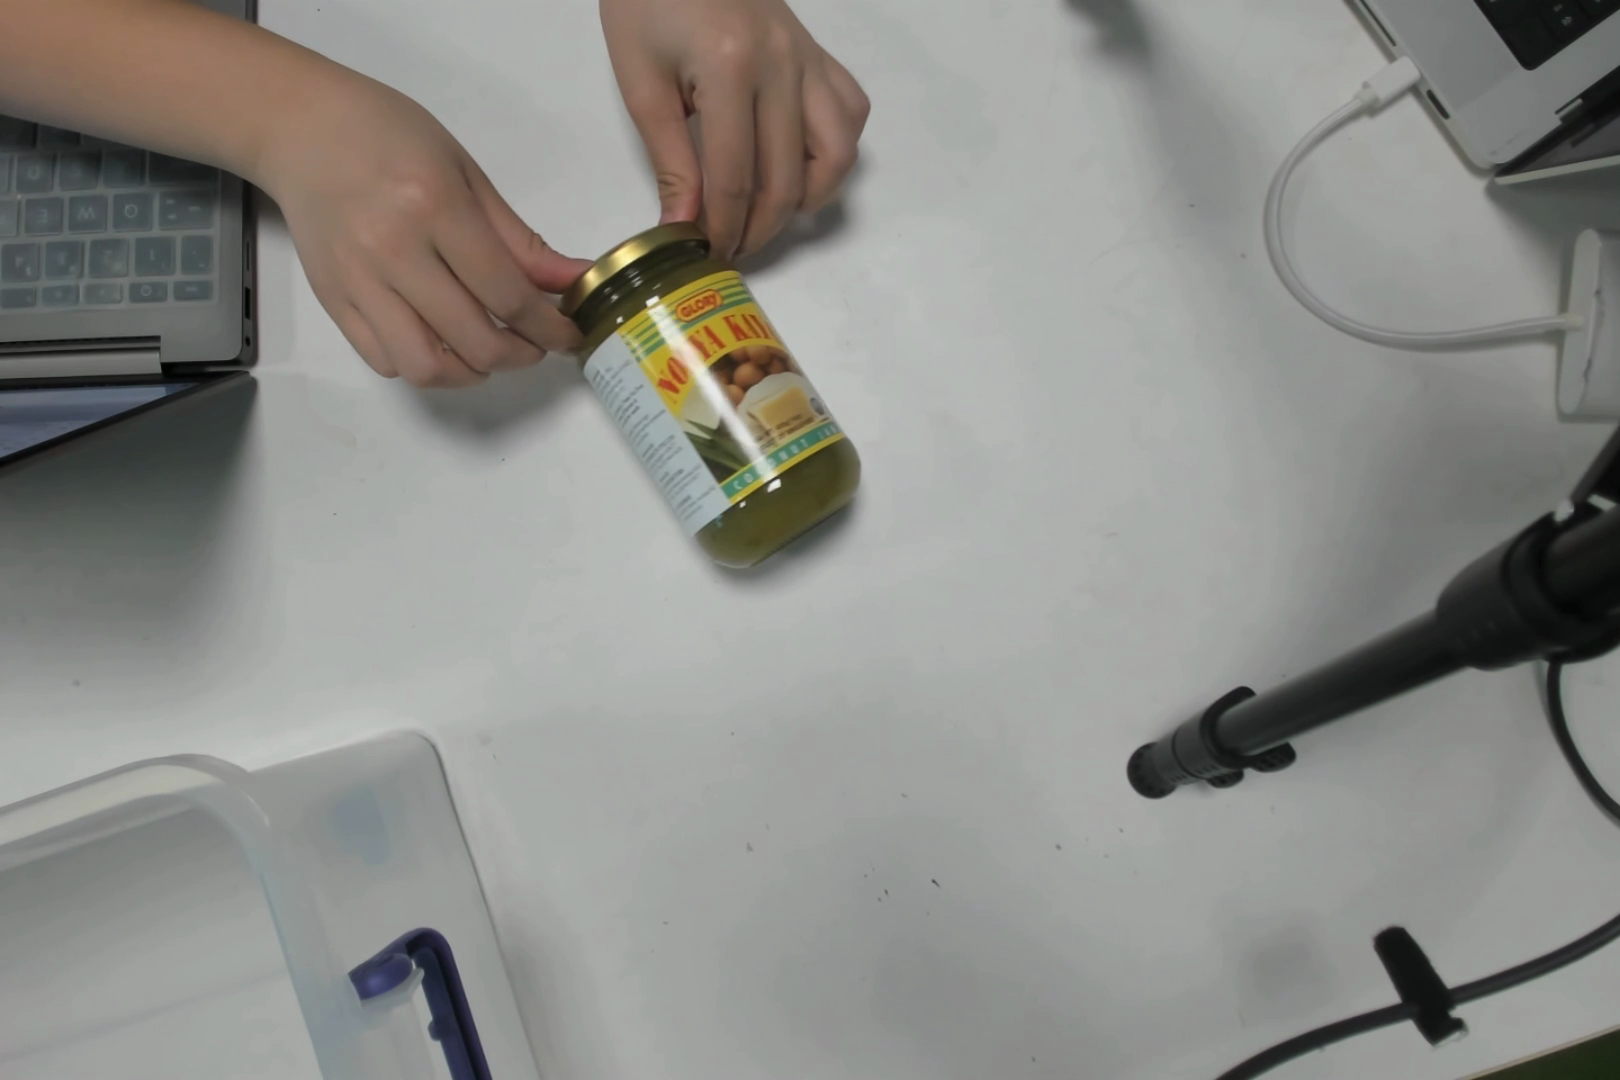Kaya_400-499g_Halal_NonHealthy: (592, 240, 868, 589)
